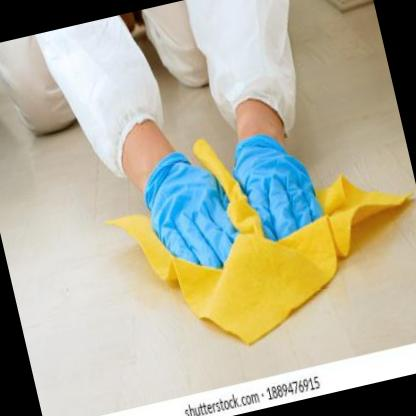Gloves: (134, 140, 247, 281), (226, 126, 330, 249)
